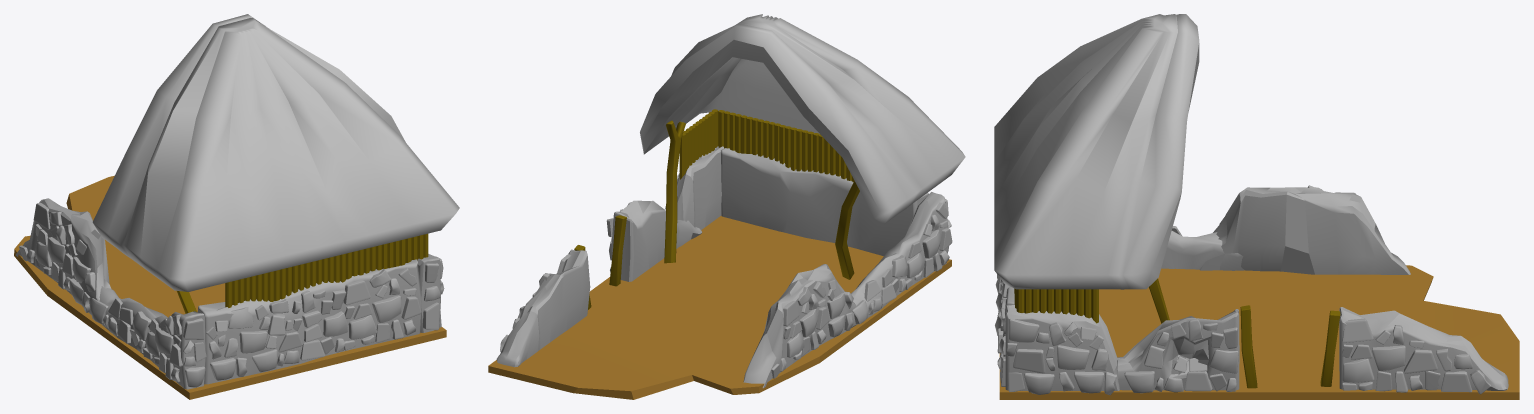
Rendered from MSH_Static_House_A.fbx.
3 views of the same model, side by side, from view 1: azimuth 30°, elevation 25°; view 2: azimuth 150°, elevation 25°; view 3: azimuth 270°, elevation 25° (orthographic). The views are drawn at different scales.
Parts seen in each view (by area): view 1: House1; view 2: House1; view 3: House1.
Boxes of the visible parts, bbox=[...] form: House1: bbox=[14, 14, 459, 399]; House1: bbox=[488, 14, 965, 399]; House1: bbox=[994, 14, 1519, 399].
Bounding box in the file's own units: 32.99 × 31.07 × 47.95.
